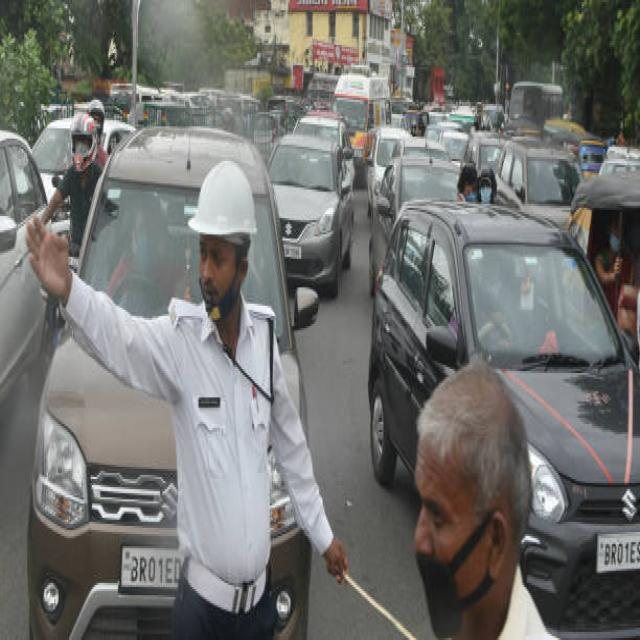ambulance: (335, 70, 395, 137)
